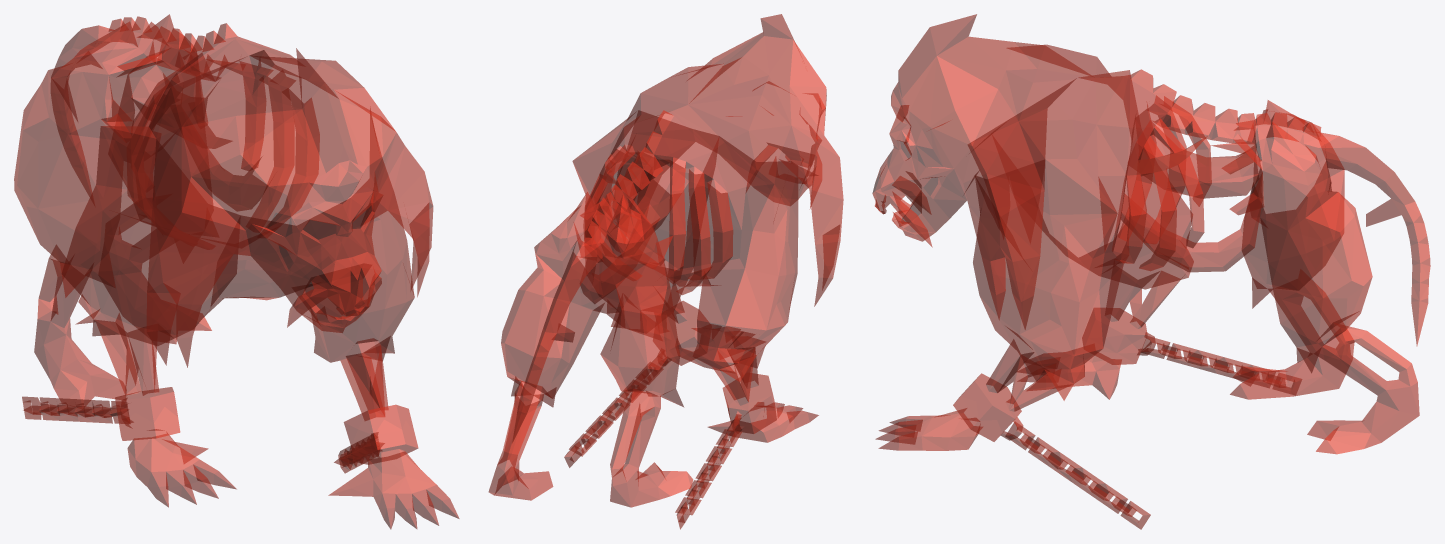
File: baba_phantom.glb
3 renders of one model, left to right at view 1: azimuth 30°, elevation 25°; view 2: azimuth 150°, elevation 25°; view 3: azimuth 270°, elevation 25°, orthographic. The views are drawn at different scales.
Size of the model in its own units: 215 by 380 by 422.
Materials: 2 (2 with a texture image).
